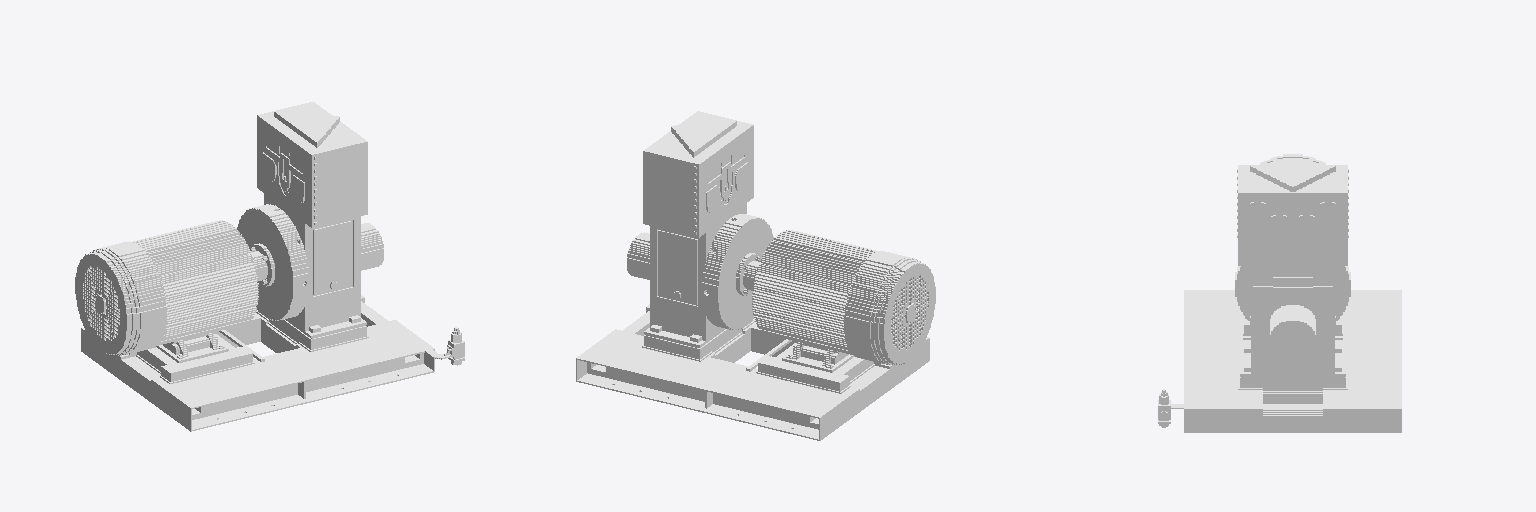
The model's file is BombaDeAr.obj.
3 renders of one model, left to right at view 1: azimuth 30°, elevation 25°; view 2: azimuth 150°, elevation 25°; view 3: azimuth 270°, elevation 25°, orthographic.
Parts seen in each view (by area): view 1: object 1; view 2: object 1; view 3: object 1.
Part boxes in pixels (left/top/right/bottom): object 1: left=75, top=102, right=464, bottom=431; object 1: left=576, top=111, right=935, bottom=440; object 1: left=1158, top=154, right=1401, bottom=432.
Size of the model in its own units: 24 by 17.3 by 17.